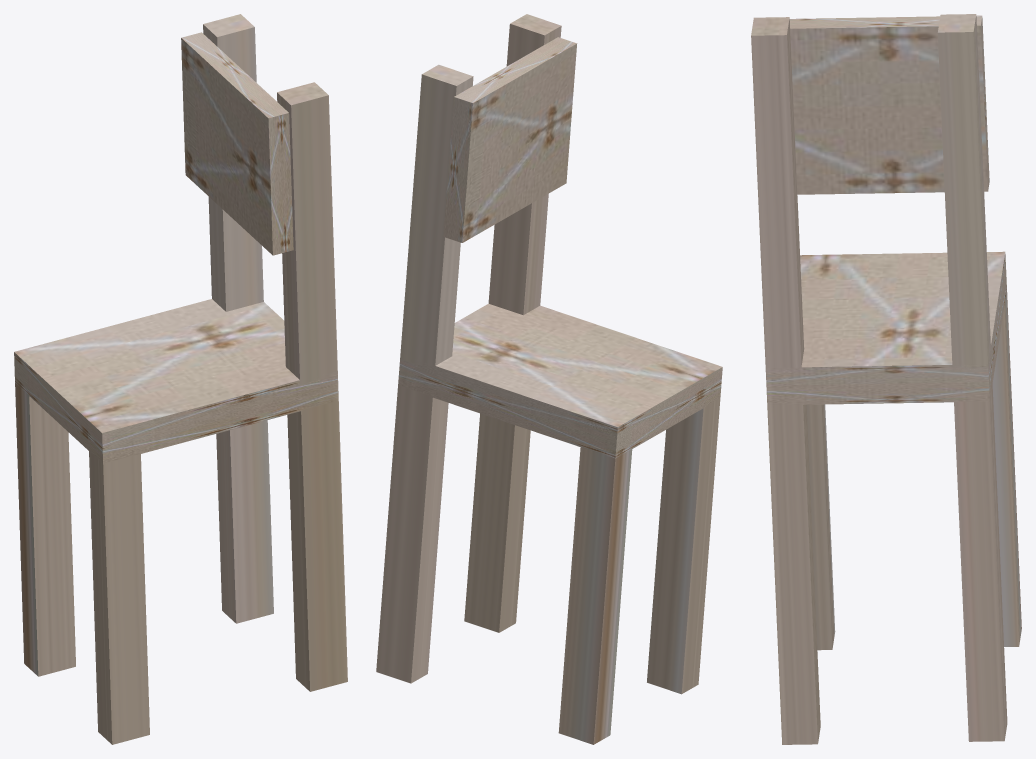
Rendered from chaise3.gltf.
The picture shows the model from 3 angles, left to right: view 1: azimuth 30°, elevation 25°; view 2: azimuth 150°, elevation 25°; view 3: azimuth 270°, elevation 25°; orthographic projection. The views are drawn at different scales.
Parts seen in each view (by area): view 1: chaise3; view 2: chaise3; view 3: chaise3.
Part boxes in pixels (box(x1,y1,x2,y2)): chaise3: box(14, 14, 347, 744); chaise3: box(376, 14, 722, 744); chaise3: box(751, 14, 1021, 744).
Bounding box in the file's own units: 1.36 × 3.2 × 1.1.
Materials: 1 (1 with a texture image).
